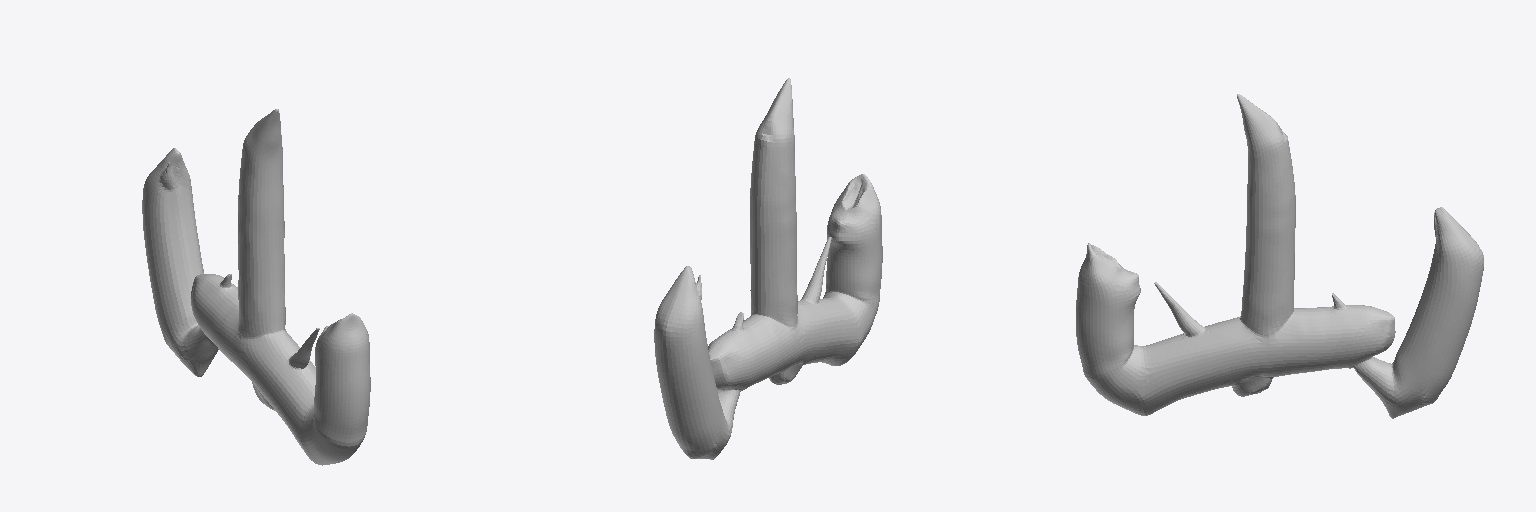
The picture shows the model from 3 angles: view 1: azimuth 30°, elevation 25°; view 2: azimuth 150°, elevation 25°; view 3: azimuth 270°, elevation 25°; orthographic projection.
Visible parts, largest first — view 1: tripo_node_c[number redacted]-0252-476c-8fb1-56fa[number redacted]a; view 2: tripo_node_c[number redacted]-0252-476c-8fb1-56fa[number redacted]a; view 3: tripo_node_c[number redacted]-0252-476c-8fb1-56fa[number redacted]a.
Part boxes in pixels (x1,y1,x2,y2): tripo_node_c[number redacted]-0252-476c-8fb1-56fa[number redacted]a: (142,109,370,465); tripo_node_c[number redacted]-0252-476c-8fb1-56fa[number redacted]a: (654,78,882,459); tripo_node_c[number redacted]-0252-476c-8fb1-56fa[number redacted]a: (1076,94,1483,418).
Bounding box in the file's own units: 0.1382 × 0.8756 × 0.9999.